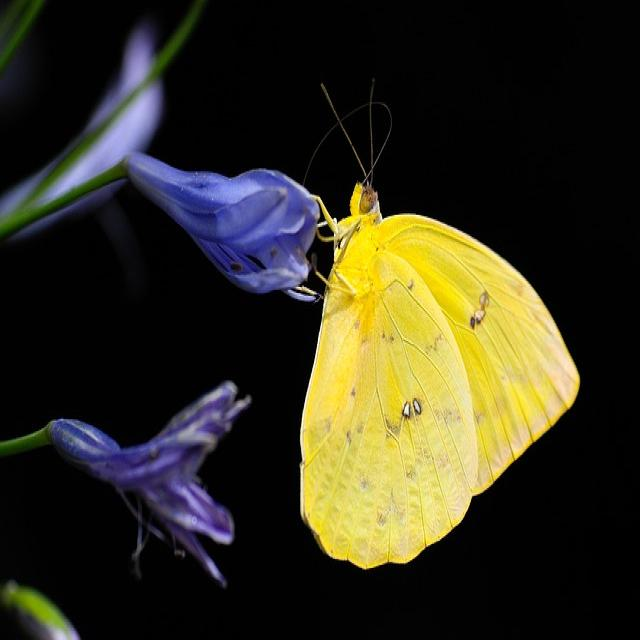butterfly: (301, 184, 579, 568)
